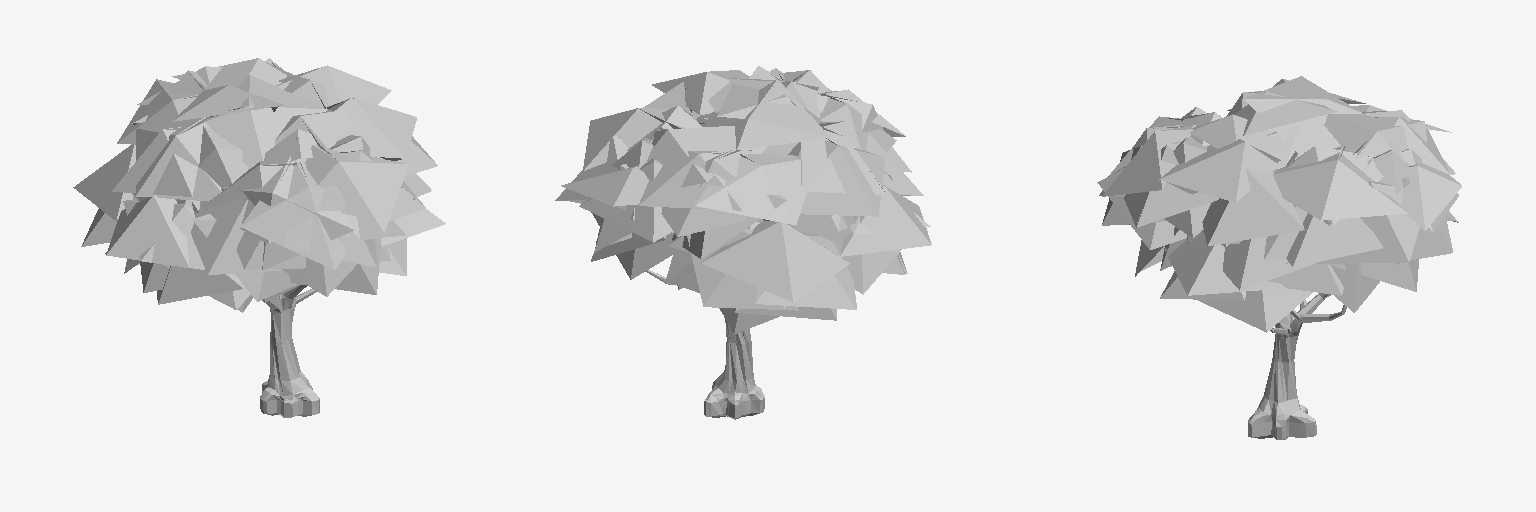
Rendered from smalltree.obj.
3 renders of one model, left to right at view 1: azimuth 30°, elevation 25°; view 2: azimuth 150°, elevation 25°; view 3: azimuth 270°, elevation 25°, orthographic.
Parts seen in each view (by area): view 1: Plane.1000_Plane.024; view 2: Plane.1000_Plane.024; view 3: Plane.1000_Plane.024.
Part boxes in pixels (bbox=[...]): Plane.1000_Plane.024: bbox=[73, 58, 445, 417]; Plane.1000_Plane.024: bbox=[555, 66, 931, 419]; Plane.1000_Plane.024: bbox=[1097, 76, 1461, 439].
Size of the model in its own units: 8.76 by 8.61 by 8.83.